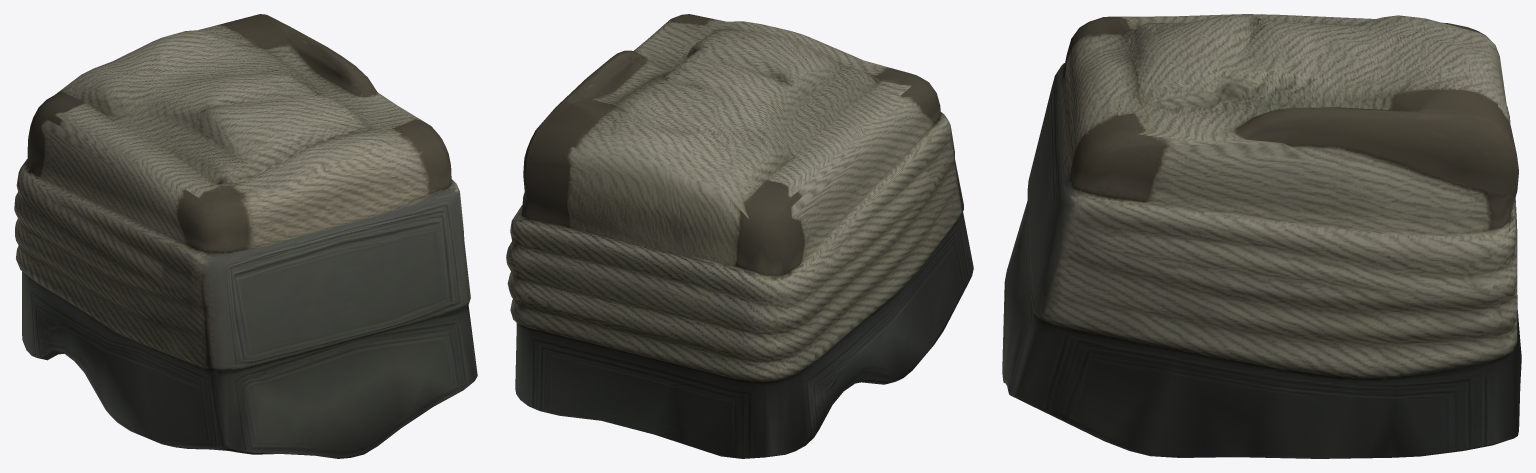
File: WrappedCore-Low.glb
3 views of the same model, side by side, from view 1: azimuth 30°, elevation 25°; view 2: azimuth 150°, elevation 25°; view 3: azimuth 270°, elevation 25° (orthographic). The views are drawn at different scales.
Visible parts, largest first — view 1: WrappedCore_LOD0; view 2: WrappedCore_LOD0; view 3: WrappedCore_LOD0.
Boxes of the visible parts, left/top/right/bottom form: WrappedCore_LOD0: left=14, top=14, right=477, bottom=458; WrappedCore_LOD0: left=506, top=14, right=973, bottom=458; WrappedCore_LOD0: left=1002, top=14, right=1521, bottom=458.
Bounding box in the file's own units: 0.7075 × 0.6577 × 0.8945.
1 material, 1 textured.
